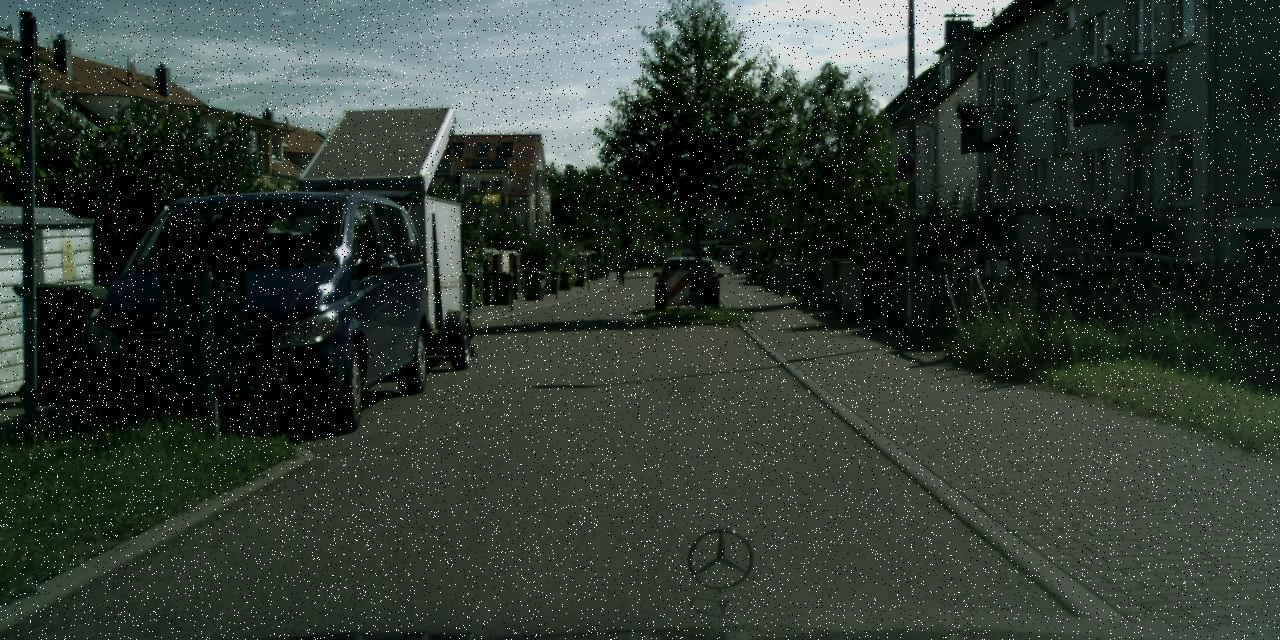ped: (614, 254, 626, 284)
